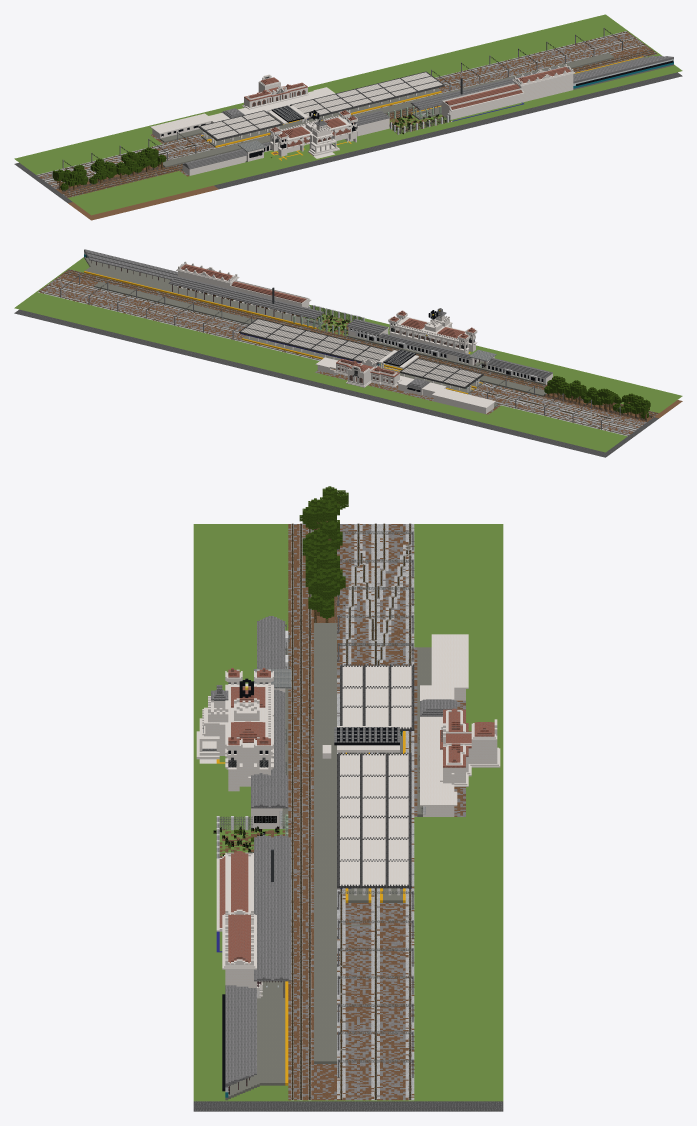
Rendered from Belo Horizonte.fbx.
3 views of the same model, one above another, from view 1: azimuth 30°, elevation 25°; view 2: azimuth 150°, elevation 25°; view 3: azimuth 270°, elevation 25° (orthographic). The views are drawn at different scales.
Visible parts, largest first — view 1: minecraft_block_andesite_proxy.003, minecraft_block_andesite_proxy.001, createdeco_block_palettes_cage_lamp_industrial_iron_lamp_pr., minecraft_block_bedrock.007, createdeco_block_palettes_cage_lamp_industrial_iron_lamp_pr, createdeco_block_palettes_cage_lamp_industrial_iron_lamp_pro, minecraft_block_andesite_proxy.005, dramaticdoors_block_macaw_tall_dark_oak_cottage_door_lower.0, createdeco_block_palettes_catwalks_zinc_catwalk_rail.003, createdeco_block_palettes_catwalks_zinc_catwalk_rail.004, minecraft_block_bedrock.010, minecraft_block_dirt.002; view 2: minecraft_block_andesite_proxy.003, createdeco_block_palettes_cage_lamp_industrial_iron_lamp_pr., createdeco_block_palettes_cage_lamp_industrial_iron_lamp_pro, minecraft_block_andesite_proxy.005, createdeco_block_palettes_cage_lamp_industrial_iron_lamp_pr, minecraft_block_andesite_proxy.001, minecraft_block_bedrock.007, dramaticdoors_block_macaw_tall_dark_oak_cottage_door_lower.0, minecraft_block_bedrock.010, createdeco_block_palettes_catwalks_zinc_catwalk_rail.003, minecraft_block_dirt.002, createdeco_block_palettes_catwalks_zinc_catwalk_rail.004; view 3: minecraft_block_andesite_proxy.001, createdeco_block_palettes_cage_lamp_industrial_iron_lamp_pr, minecraft_block_andesite_proxy.005, createdeco_block_palettes_cage_lamp_industrial_iron_lamp_pro, minecraft_block_andesite_proxy.003, createdeco_block_palettes_cage_lamp_industrial_iron_lamp_pr., minecraft_block_bedrock.007, minecraft_block_bedrock.010, dramaticdoors_block_macaw_tall_dark_oak_cottage_door_lower.0, minecraft_block_dirt.002, createdeco_block_palettes_catwalks_zinc_catwalk_rail.003, createdeco_block_palettes_catwalks_zinc_catwalk_rail.004.
Part boxes in pixels (x1,y1,x2,y2): minecraft_block_andesite_proxy.003: (14,135,165,204); minecraft_block_andesite_proxy.001: (508,14,660,74); createdeco_block_palettes_cage_lamp_industrial_iron_lamp_pr.: (111,111,265,175); minecraft_block_bedrock.007: (266,110,385,172); createdeco_block_palettes_cage_lamp_industrial_iron_lamp_pr: (309,62,464,121); createdeco_block_palettes_cage_lamp_industrial_iron_lamp_pro: (210,74,363,151); minecraft_block_andesite_proxy.005: (409,38,557,92); dramaticdoors_block_macaw_tall_dark_oak_cottage_door_lower.0: (464,64,584,124); createdeco_block_palettes_catwalks_zinc_catwalk_rail.003: (365,78,485,148); createdeco_block_palettes_catwalks_zinc_catwalk_rail.004: (167,142,286,196); minecraft_block_bedrock.010: (573,55,682,99); minecraft_block_dirt.002: (70,176,187,220); minecraft_block_andesite_proxy.003: (509,376,660,457); createdeco_block_palettes_cage_lamp_industrial_iron_lamp_pr.: (410,354,556,433); createdeco_block_palettes_cage_lamp_industrial_iron_lamp_pro: (311,328,464,409); minecraft_block_andesite_proxy.005: (112,280,266,361); createdeco_block_palettes_cage_lamp_industrial_iron_lamp_pr: (211,303,365,385); minecraft_block_andesite_proxy.001: (14,267,167,337); minecraft_block_bedrock.007: (366,308,486,362); dramaticdoors_block_macaw_tall_dark_oak_cottage_door_lower.0: (168,261,280,313); minecraft_block_bedrock.010: (70,249,177,289); createdeco_block_palettes_catwalks_zinc_catwalk_rail.003: (267,287,386,337); minecraft_block_dirt.002: (571,372,682,416); createdeco_block_palettes_catwalks_zinc_catwalk_rail.004: (465,348,585,383); minecraft_block_andesite_proxy.001: (279,1003,503,1111); createdeco_block_palettes_cage_lamp_industrial_iron_lamp_pr: (279,788,503,908); minecraft_block_andesite_proxy.005: (279,884,503,1005); createdeco_block_palettes_cage_lamp_industrial_iron_lamp_pro: (279,697,503,811); minecraft_block_andesite_proxy.003: (279,486,503,618); createdeco_block_palettes_cage_lamp_industrial_iron_lamp_pr.: (279,582,503,715); minecraft_block_bedrock.007: (193,668,279,811); minecraft_block_bedrock.010: (193,989,279,1111); dramaticdoors_block_macaw_tall_dark_oak_cottage_door_lower.0: (193,877,279,1005); minecraft_block_dirt.002: (193,524,279,618); createdeco_block_palettes_catwalks_zinc_catwalk_rail.003: (193,787,279,908); createdeco_block_palettes_catwalks_zinc_catwalk_rail.004: (193,616,279,715).
Size of the model in its own units: 47700 by 3400 by 10800.
Materials: 76 (71 with a texture image).
